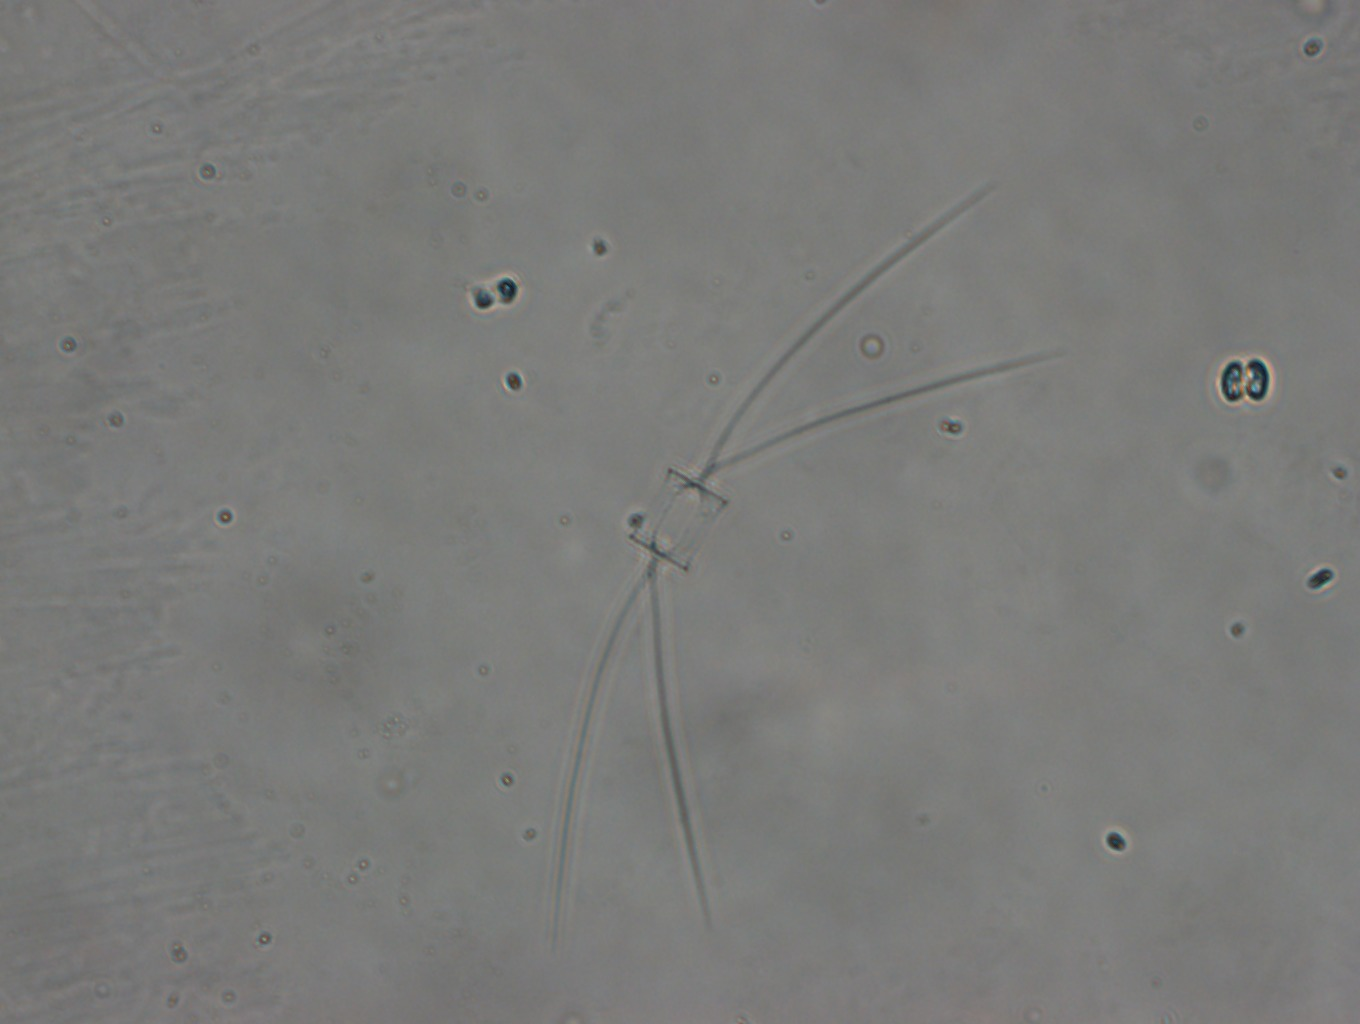chaetoceros: (554, 171, 1037, 951)
